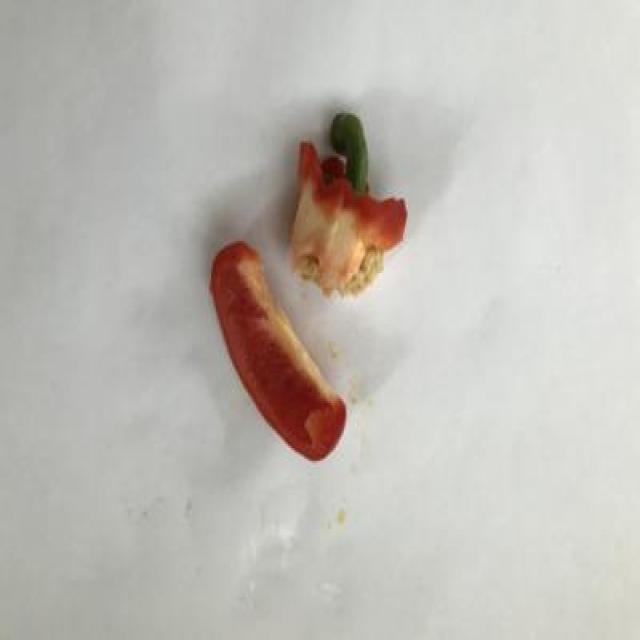compost: (181, 49, 461, 486)
